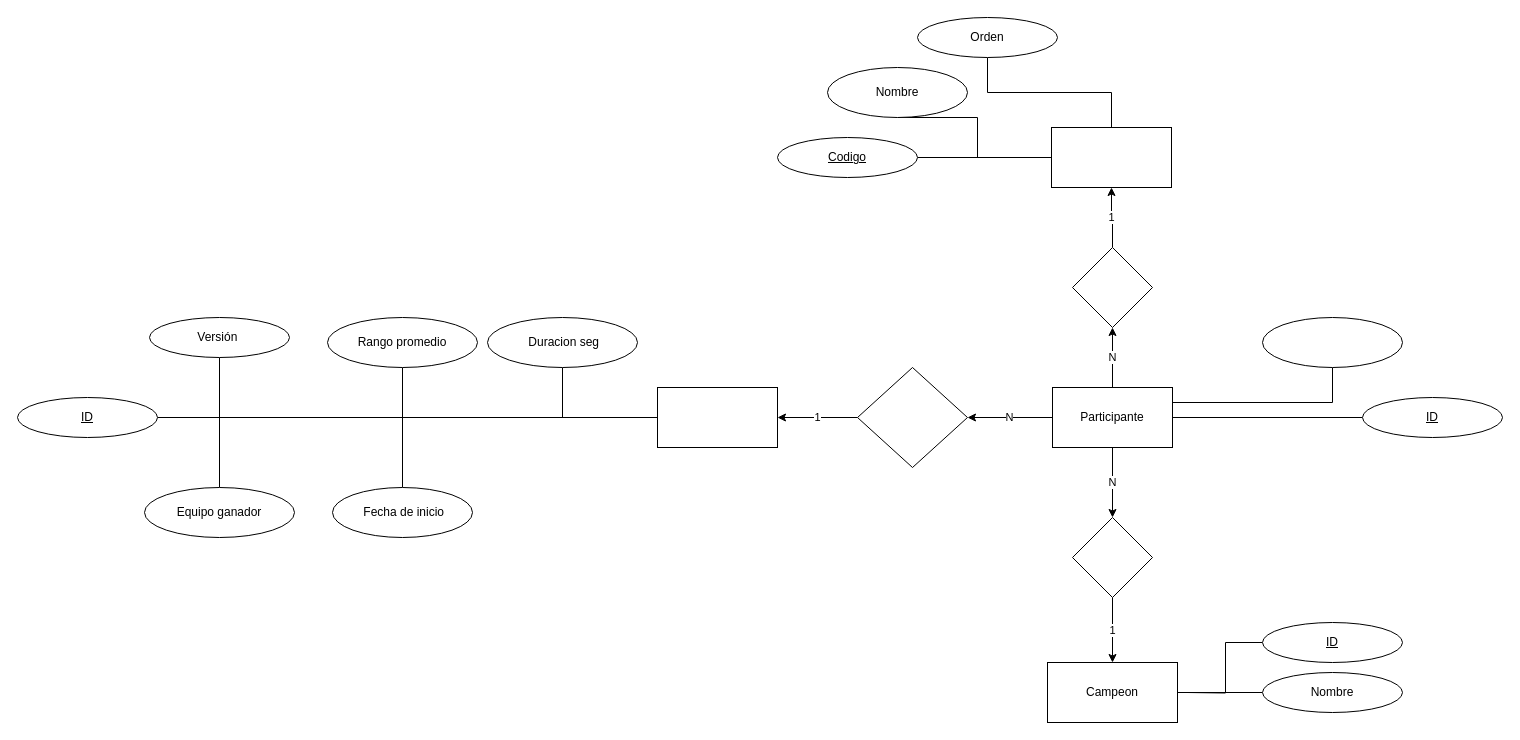
This 1520x740 diagram has some shape labels left out. The shapes that lost their labels are listed below. From the top down, each one's box as (x1, y1, x2, y2) in pixels, then its label:
(1050, 126, 1172, 188): Rol
(1072, 246, 1152, 328): Cumple
(1262, 316, 1402, 368): Lado
(656, 386, 778, 448): Partida
(856, 366, 968, 468): Participa
(1072, 516, 1152, 598): Utiliza
